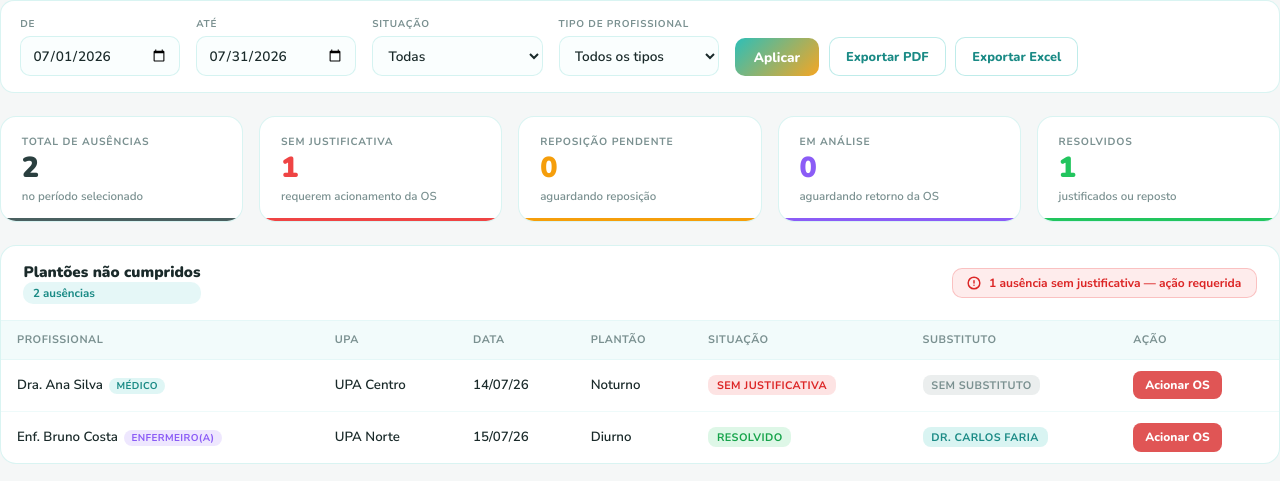
Scenario: <PrefeituraAusencias /> › filtro de situação restringe a tabela
Expected: the text "Dra. Ana Silva" is shown, [17,376,103,394]
Select "Resolvido" in the dropdown labelled "Situação" at coordinates (457, 56), box [372,36,543,76]
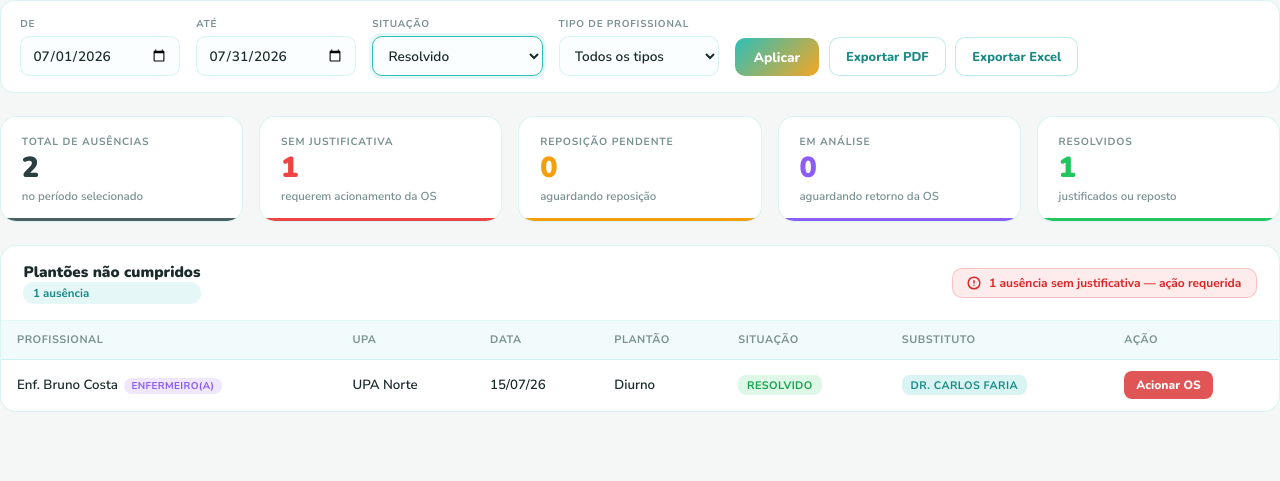
Expected: the text "Enf. Bruno Costa" is shown, [17,376,118,394]
Result: the text "Dra. Ana Silva" is gone
